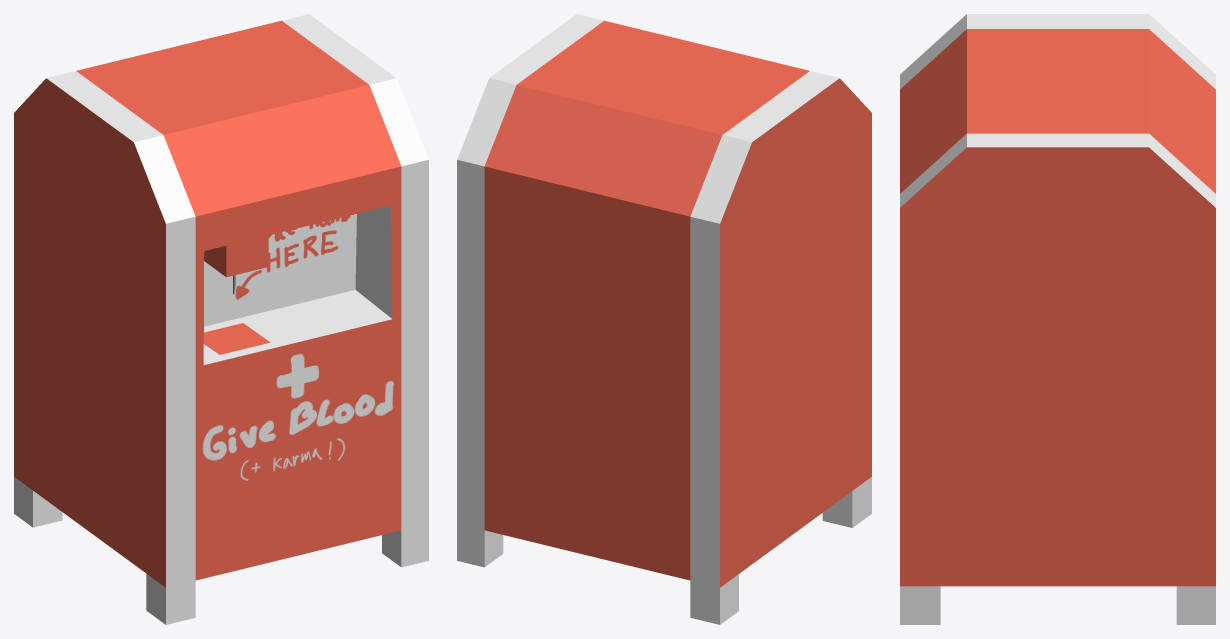
File: giveusubloodbox.fbx
3 renders of one model, left to right at view 1: azimuth 30°, elevation 25°; view 2: azimuth 150°, elevation 25°; view 3: azimuth 270°, elevation 25°, orthographic. The views are drawn at different scales.
Parts seen in each view (by area): view 1: Cube; view 2: Cube; view 3: Cube.
Part boxes in pixels (bbox=[...]): Cube: bbox=[14, 14, 428, 624]; Cube: bbox=[457, 14, 871, 624]; Cube: bbox=[900, 14, 1215, 624].
Size of the model in its own units: 200 by 334 by 200.
